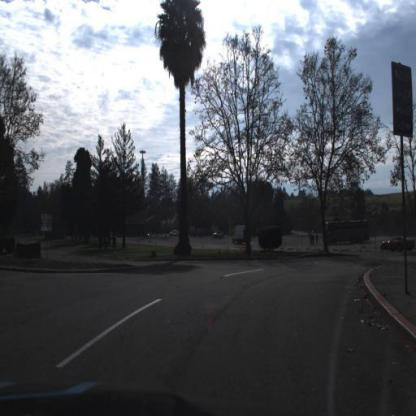car: (380, 234, 415, 258), (106, 223, 121, 246), (209, 230, 226, 245)
truck: (321, 217, 372, 248), (230, 224, 252, 247)
